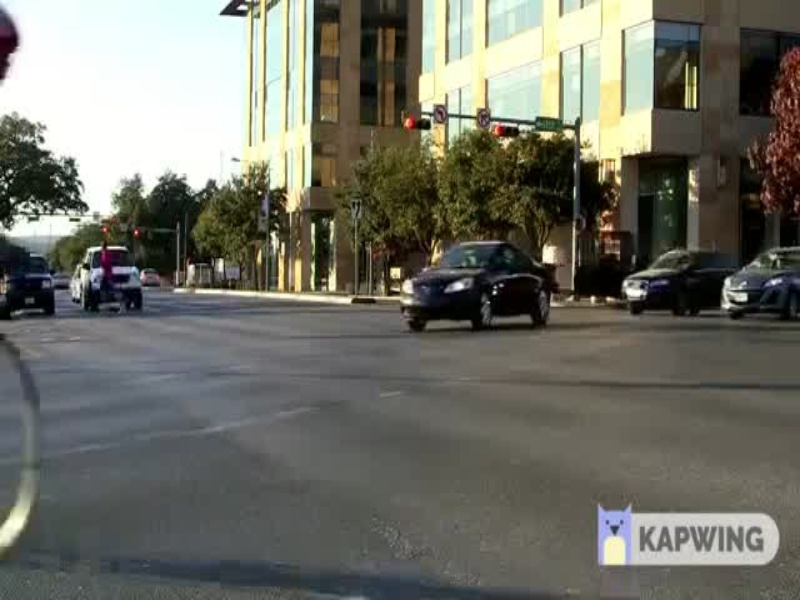car: (392, 235, 563, 339), (619, 245, 735, 321), (714, 246, 800, 321)
